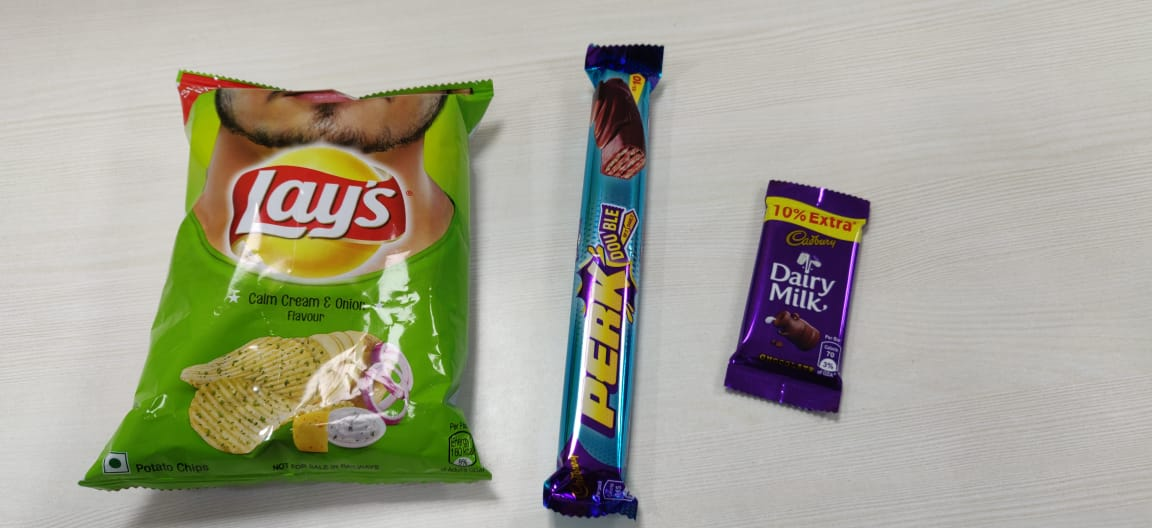dairy milk: (718, 173, 879, 432)
lays chips: (77, 60, 518, 505)
perk: (538, 27, 674, 528)
